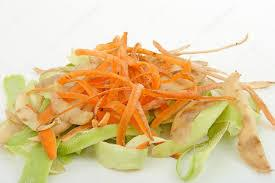Organic: (4, 11, 275, 183)
